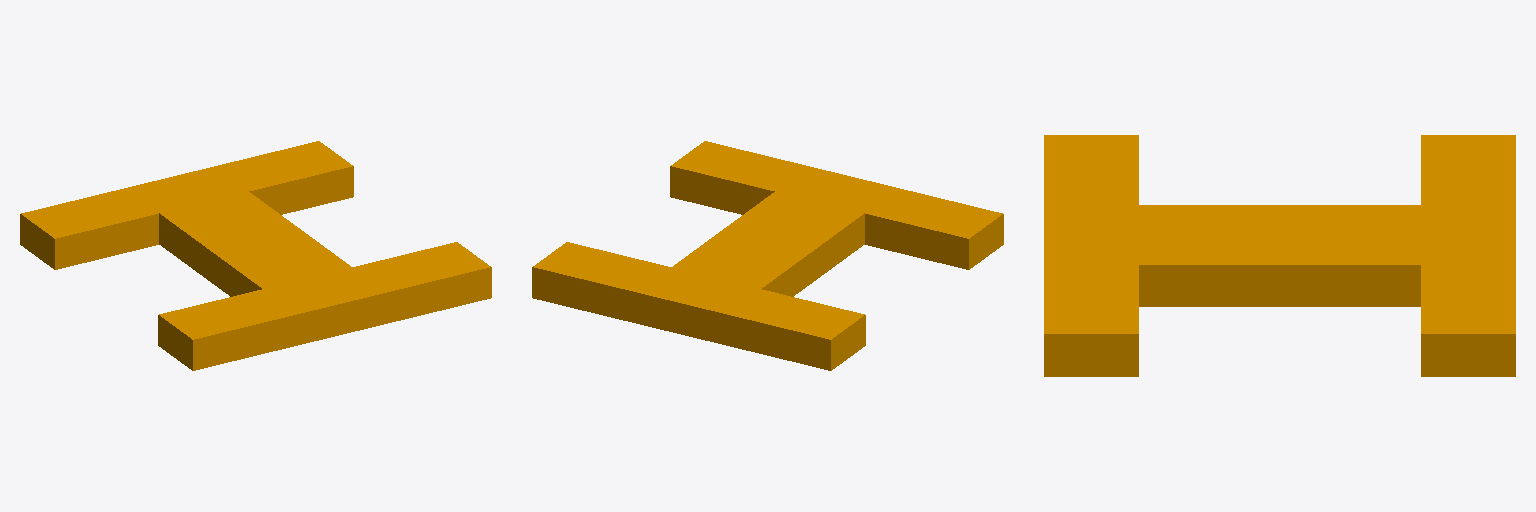
robot.urdf — shape:
<?xml version="1.0" ?>
<robot name="shape">
  <link name="shape2">
    <visual>
      <origin rpy="0 0 0" xyz="0 0 0"/>
      <geometry>
        <mesh scale="0.001 0.001 0.001" filename="package://core/stl/i.stl"/>
      </geometry>
    </visual>
  </link>
</robot>

--- What the picture shows (computed from the rendered views, not written in the file) ---
3 views of the same robot in one strip: view 1: azimuth 30°, elevation 25°; view 2: azimuth 150°, elevation 25°; view 3: azimuth 270°, elevation 25° (orthographic).
Robot: shape — 1 links, 0 joints (none); root link shape2; default pose: all joints at 0.
Links seen in each view (by area): view 1: shape2; view 2: shape2; view 3: shape2.
Link boxes in pixels (x1,y1,x2,y2): shape2: (20, 141, 491, 370); shape2: (532, 141, 1003, 370); shape2: (1044, 135, 1515, 376).
Size in the robot's own frame: 0.1 by 0.1 by 0.01 metres.
1 mesh visuals loaded from 1 distinct referenced files (1 binary STL).